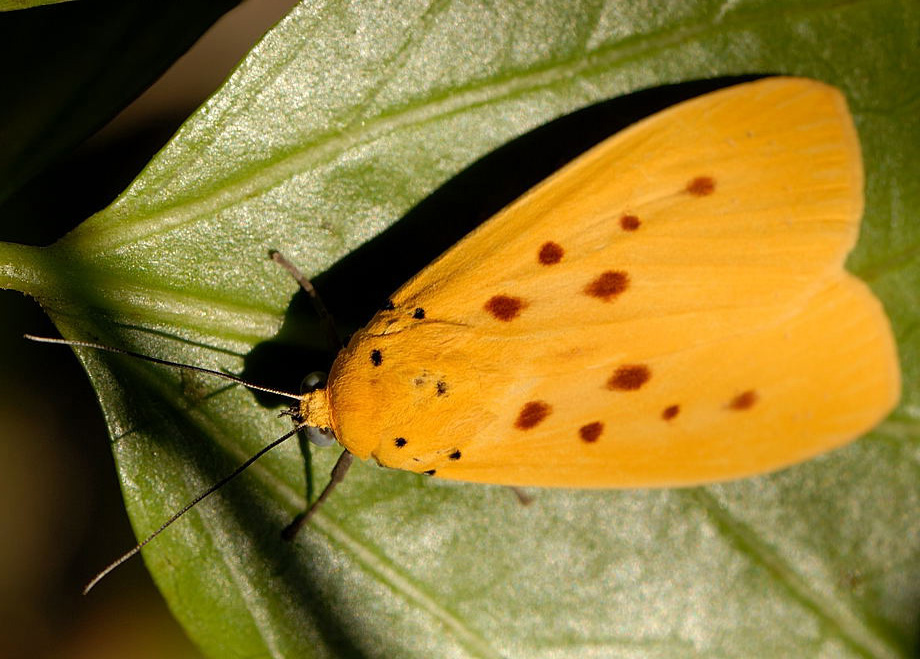Agape chloropyga: (25, 67, 905, 597)
moth: (27, 69, 907, 599)
